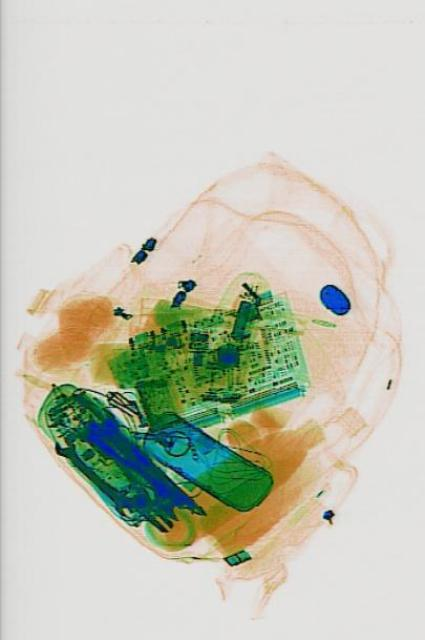Wrench: (85, 399, 194, 518), (51, 430, 135, 520)
